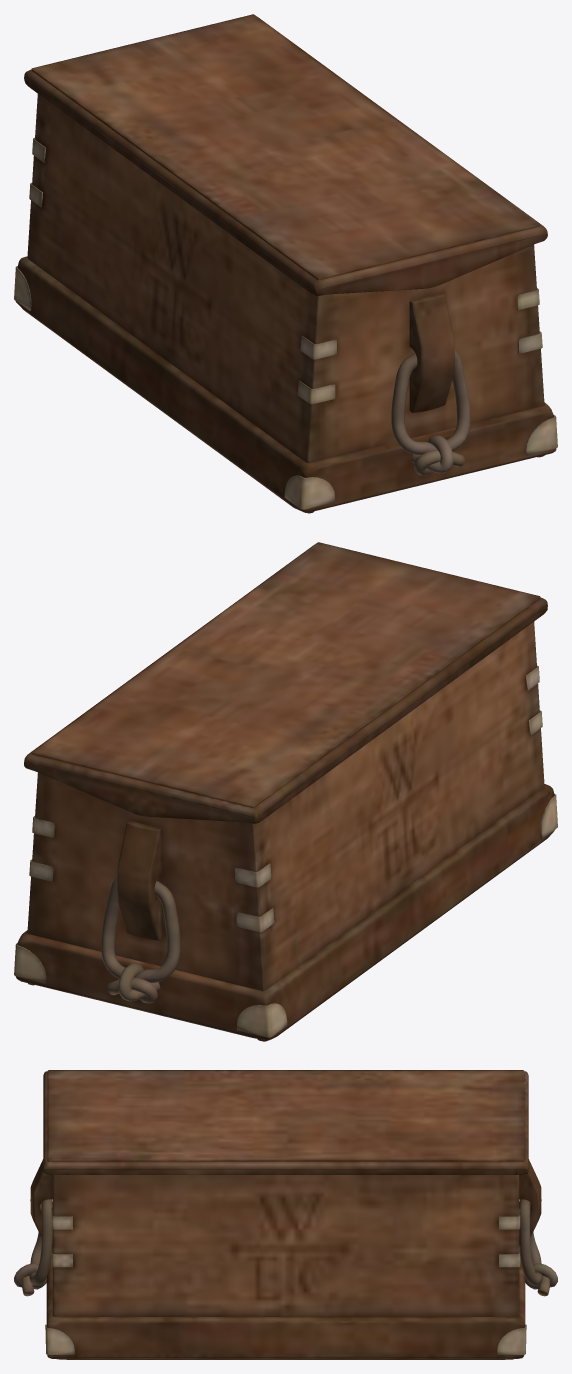
File: wooden_crate_02.glb
The picture shows the model from 3 angles, top to bottom: view 1: azimuth 30°, elevation 25°; view 2: azimuth 150°, elevation 25°; view 3: azimuth 270°, elevation 25°; orthographic projection. The views are drawn at different scales.
Parts seen in each view (by area): view 1: c14_wood, c10_wood, c02_wood, c00_wood, c08_wood, c04_wood, c01_wood, c13_wood, c11_wood; view 2: c14_wood, c10_wood, c03_wood, c00_wood, c08_wood, c01_wood, c05_wood, c13_wood, c11_wood; view 3: c11_wood, c14_wood, c01_wood, c12_wood, c00_wood, c04_wood, c05_wood, c02_wood, c03_wood.
Part boxes in pixels (x1,y1,x2,y2): c14_wood: [24, 14, 547, 295]; c10_wood: [27, 94, 336, 462]; c02_wood: [22, 244, 544, 513]; c00_wood: [15, 262, 551, 511]; c08_wood: [19, 257, 556, 511]; c04_wood: [391, 349, 470, 475]; c01_wood: [14, 256, 557, 512]; c13_wood: [29, 81, 310, 292]; c11_wood: [517, 288, 542, 353]; c14_wood: [24, 542, 547, 823]; c10_wood: [235, 621, 544, 1040]; c03_wood: [27, 772, 266, 1041]; c00_wood: [20, 784, 554, 1039]; c08_wood: [15, 785, 552, 1039]; c01_wood: [14, 794, 557, 1040]; c05_wood: [101, 877, 180, 1003]; c13_wood: [251, 609, 542, 823]; c11_wood: [29, 816, 54, 881]; c11_wood: [51, 1175, 520, 1359]; c14_wood: [43, 1070, 528, 1174]; c01_wood: [45, 1256, 526, 1359]; c12_wood: [45, 1169, 518, 1174]; c00_wood: [47, 1256, 522, 1322]; c04_wood: [14, 1199, 52, 1296]; c05_wood: [519, 1199, 557, 1296]; c02_wood: [30, 1159, 522, 1358]; c03_wood: [518, 1159, 541, 1316].
Size of the model in its own units: 0.5291 by 0.464 by 1.17.
1 material, 1 textured.
